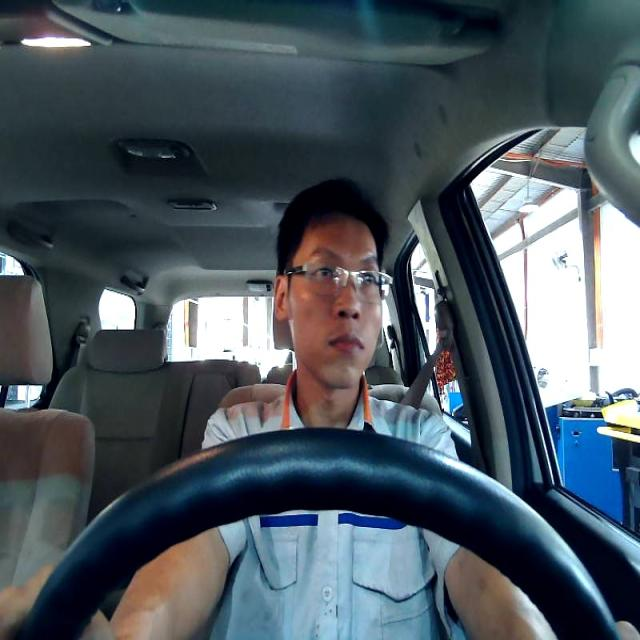focused: (272, 210, 383, 392)
